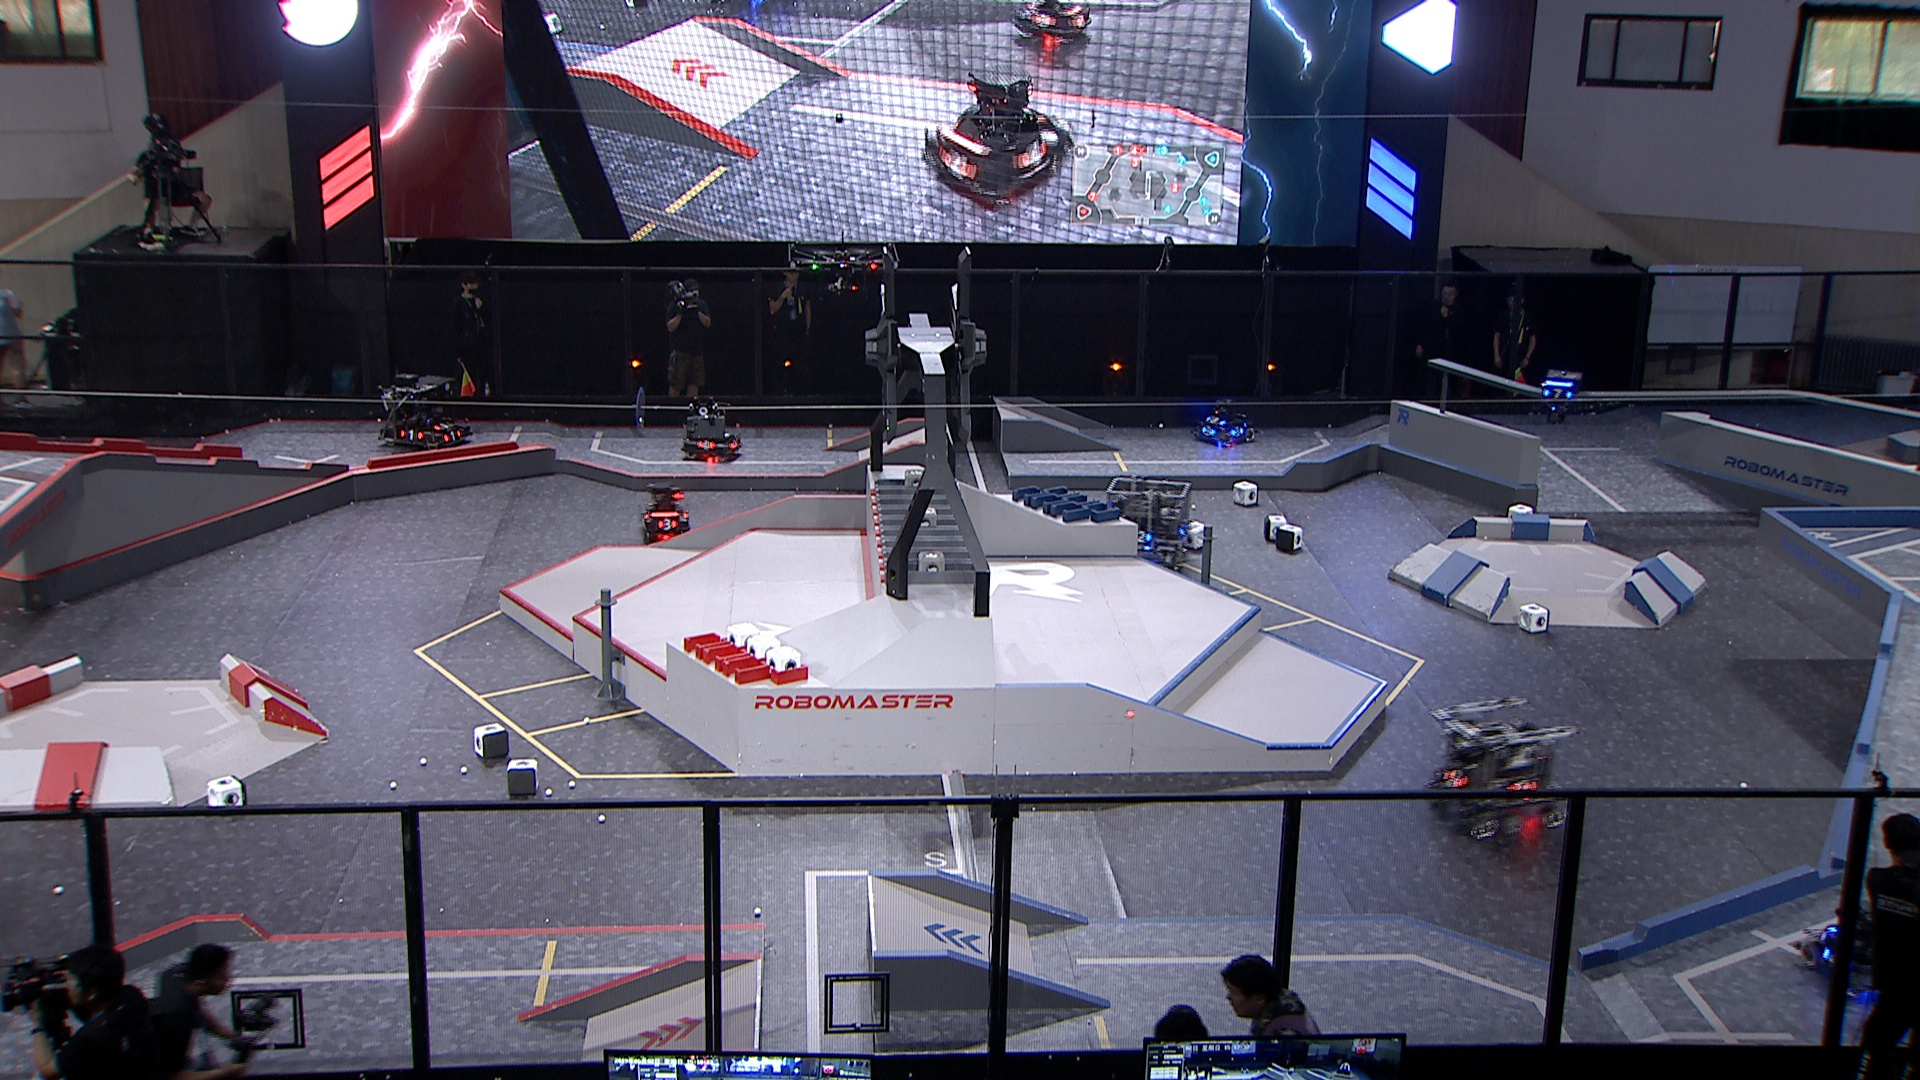armor: (1441, 769, 1472, 790), (1543, 386, 1575, 401), (1509, 778, 1538, 793), (400, 429, 425, 442), (1135, 529, 1153, 546), (433, 419, 456, 431), (657, 518, 678, 531), (698, 438, 716, 452), (1200, 425, 1218, 438), (1205, 414, 1228, 425), (1229, 425, 1245, 439), (443, 431, 462, 442), (727, 438, 740, 451)
car: (1425, 698, 1580, 843), (1793, 893, 1920, 1001), (1102, 473, 1193, 575), (377, 372, 472, 448), (680, 404, 744, 465), (640, 481, 695, 543), (1193, 400, 1259, 447)
ignore: (922, 71, 1069, 210), (1011, 1, 1095, 45)
watcher: (1539, 371, 1584, 427)
